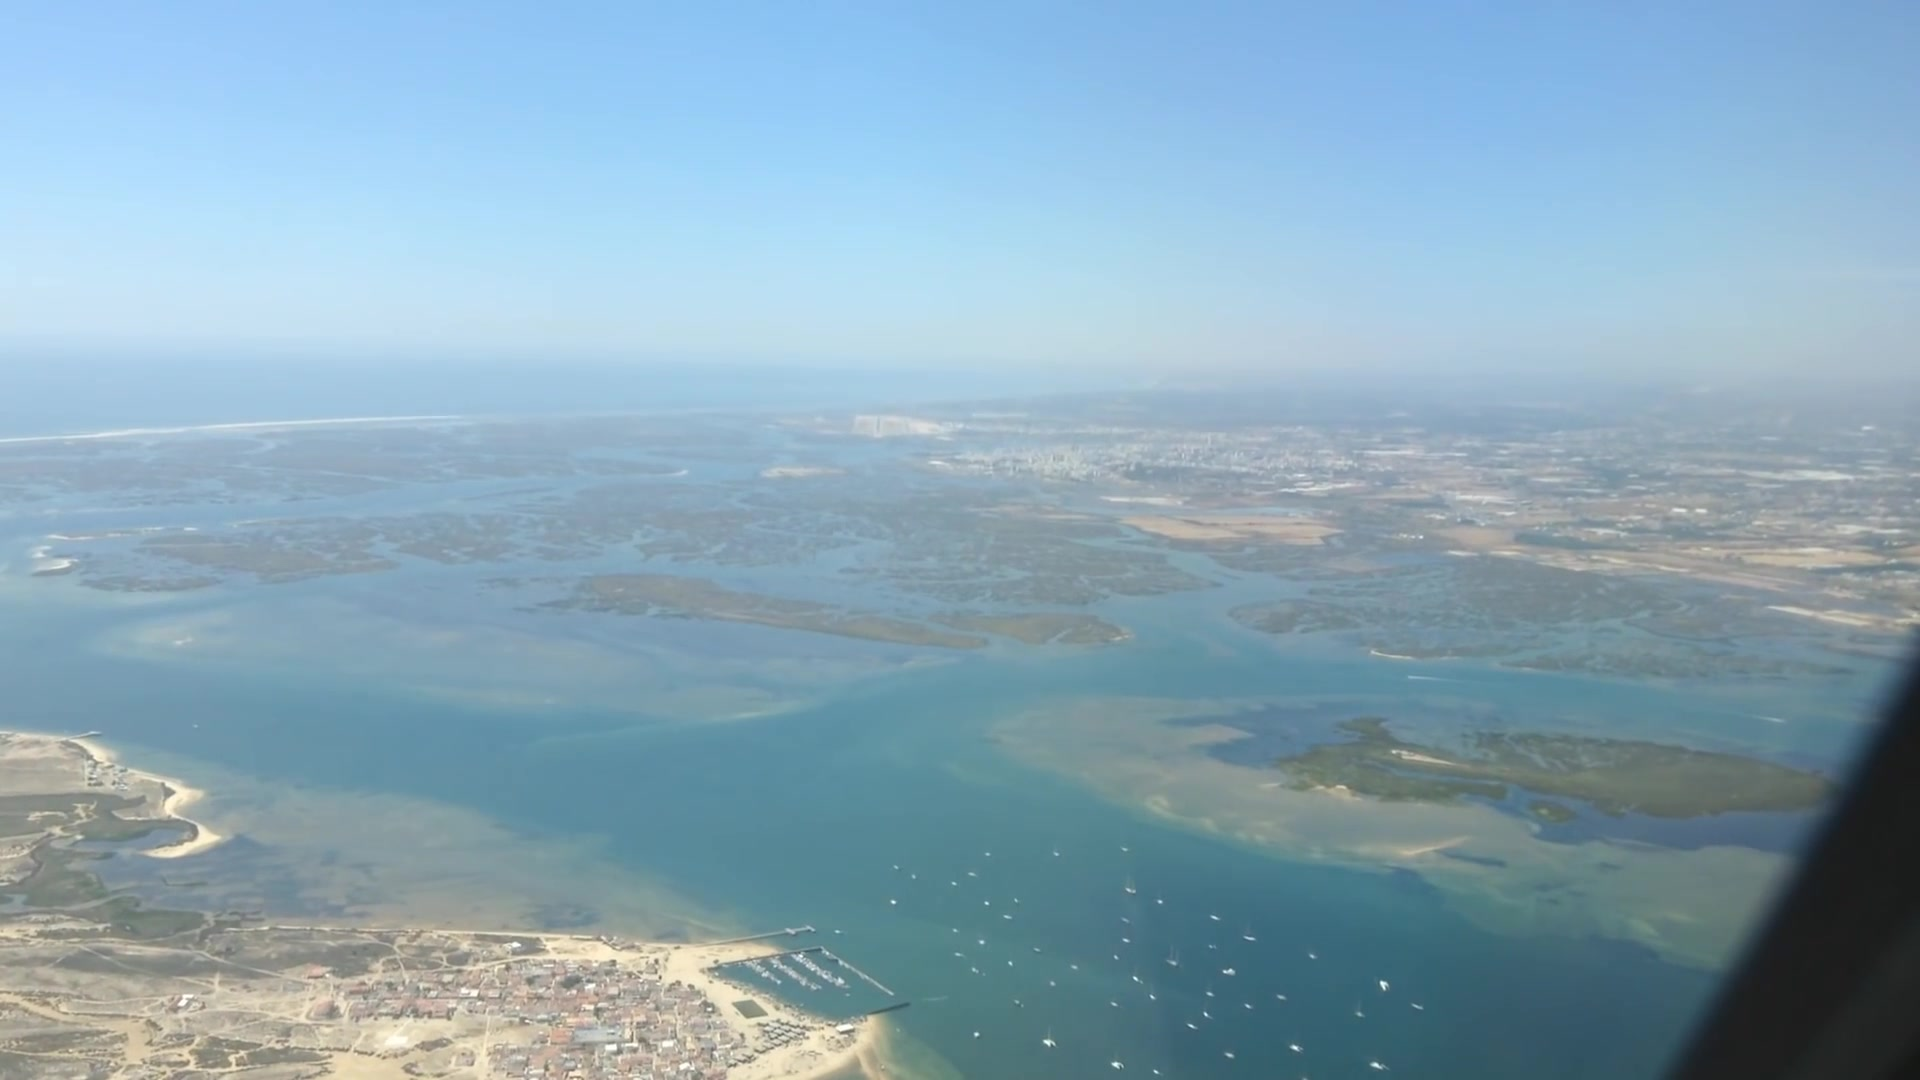runway: (872, 413, 884, 440)
